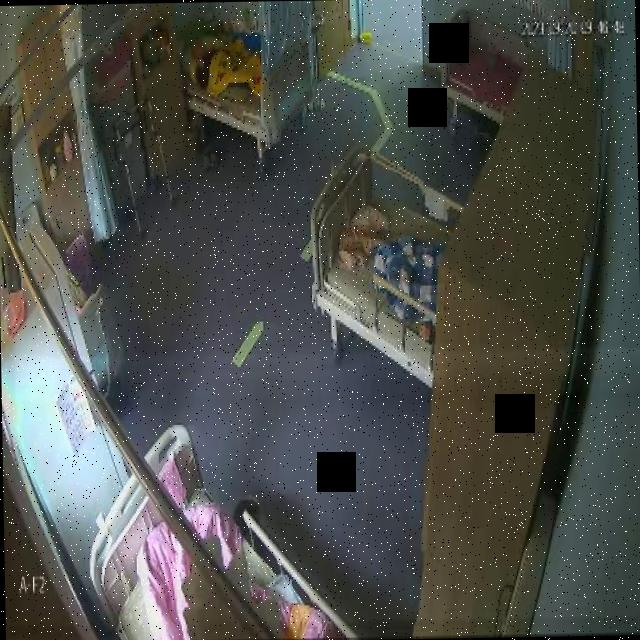bed: (85, 419, 332, 640), (311, 147, 459, 377), (184, 21, 316, 140), (438, 5, 522, 124)
walker: (113, 97, 175, 234)
